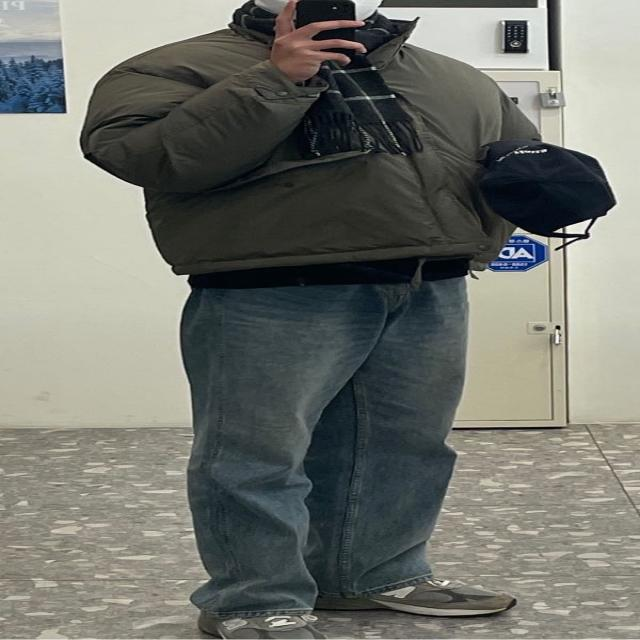denimpants: (179, 267, 467, 620)
padding: (77, 6, 548, 273)
